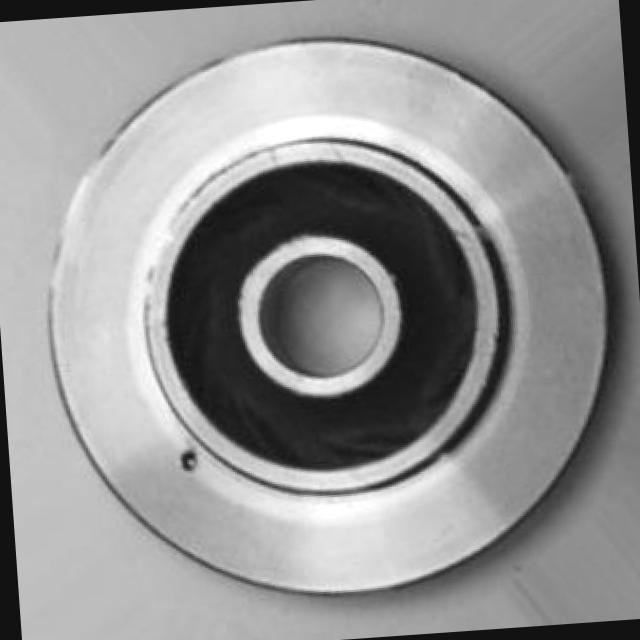Defect: (171, 440, 208, 486)
